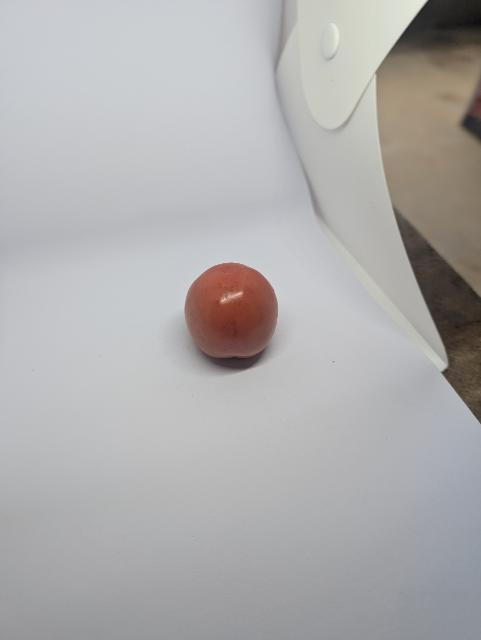red: (173, 253, 296, 378)
